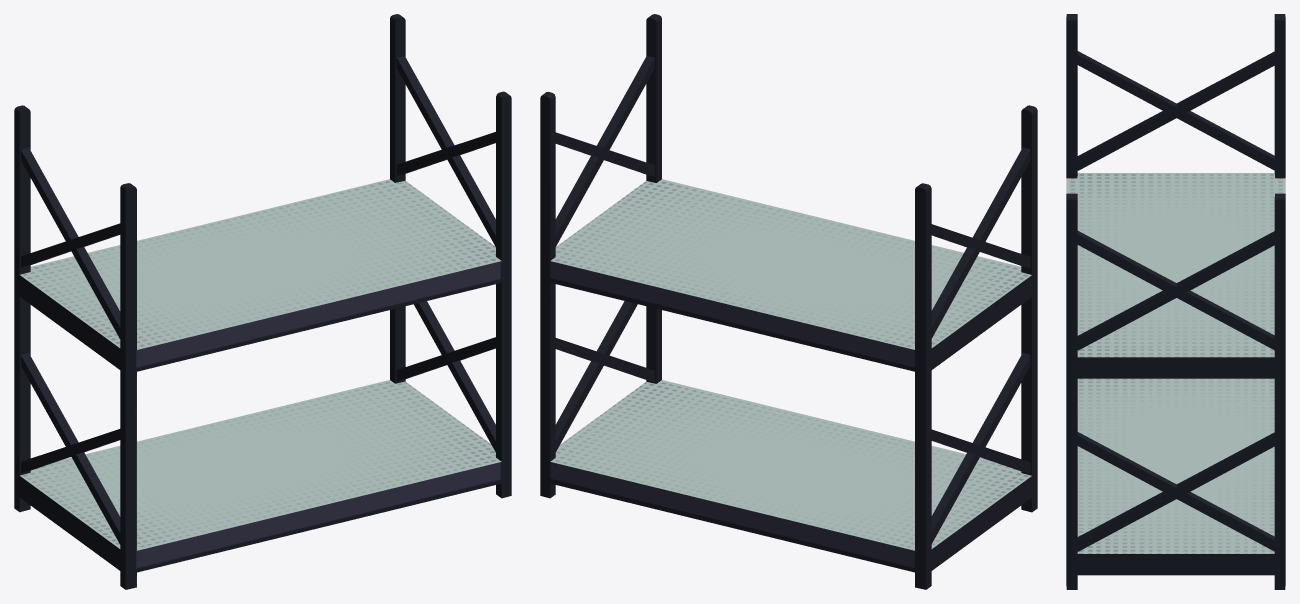
File: shelf.fbx
3 views of the same model, side by side, from view 1: azimuth 30°, elevation 25°; view 2: azimuth 150°, elevation 25°; view 3: azimuth 270°, elevation 25° (orthographic). The views are drawn at different scales.
Visible parts, largest first — view 1: Cube, Cube.003; view 2: Cube, Cube.003; view 3: Cube, Cube.003.
Boxes of the visible parts, x1,y1,x2,y2 form: Cube: (14,14,511,589); Cube.003: (21,56,495,544); Cube: (540,14,1037,589); Cube.003: (555,56,1030,543); Cube: (1066,14,1285,589); Cube.003: (1077,51,1274,551).
Bounding box in the file's own units: 400 × 397 × 201.
2 materials, 2 textured.
